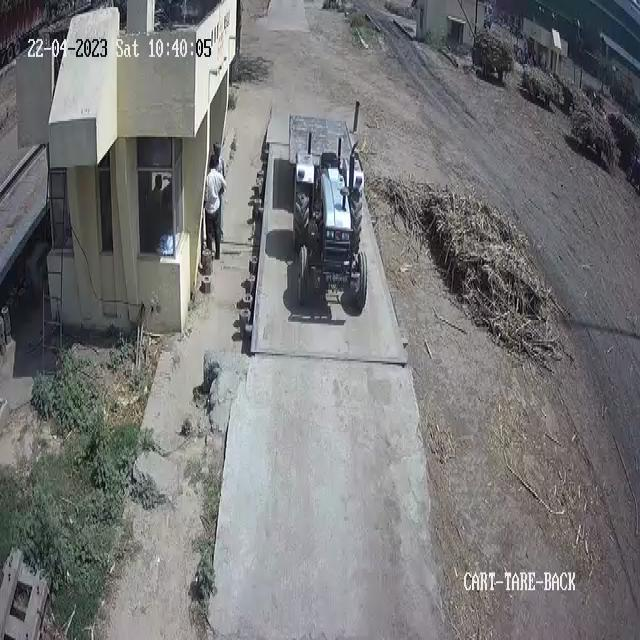Tratores - v5 YOLO V8L 2024-11-13: (286, 146, 369, 319)
